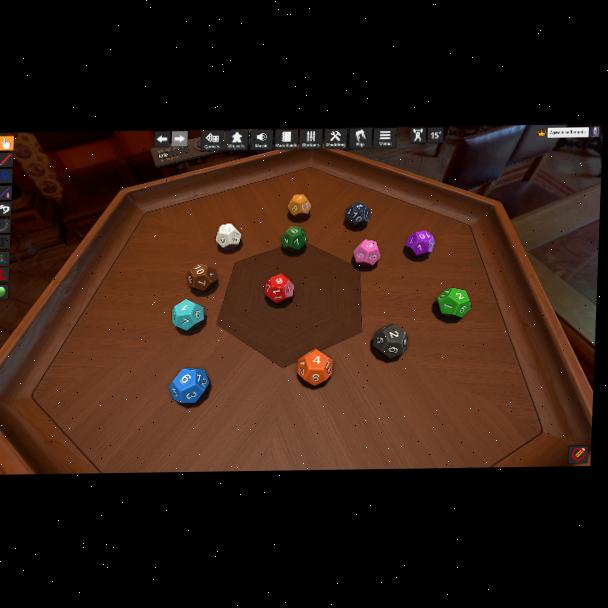d12: (167, 368, 210, 404), (296, 350, 331, 386), (434, 288, 471, 320), (371, 325, 405, 359), (171, 300, 205, 332), (187, 263, 217, 293), (263, 274, 293, 303), (404, 231, 432, 258), (353, 239, 379, 268), (280, 226, 307, 253), (216, 223, 243, 250), (344, 202, 369, 227), (288, 193, 311, 218), (427, 127, 445, 144)
